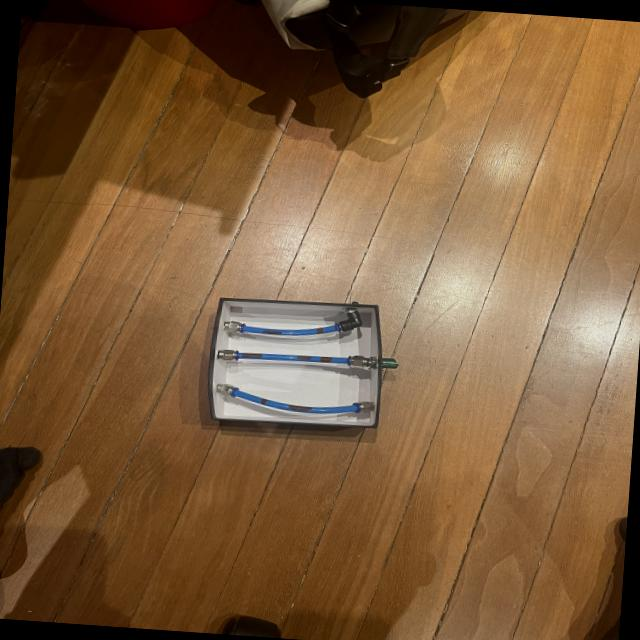hose_damage: (286, 403, 313, 412), (258, 329, 283, 335), (240, 352, 264, 358), (318, 356, 332, 364), (295, 354, 313, 360), (260, 397, 268, 406), (314, 328, 324, 334)
